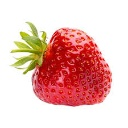strawberry: (18, 22, 114, 109)
